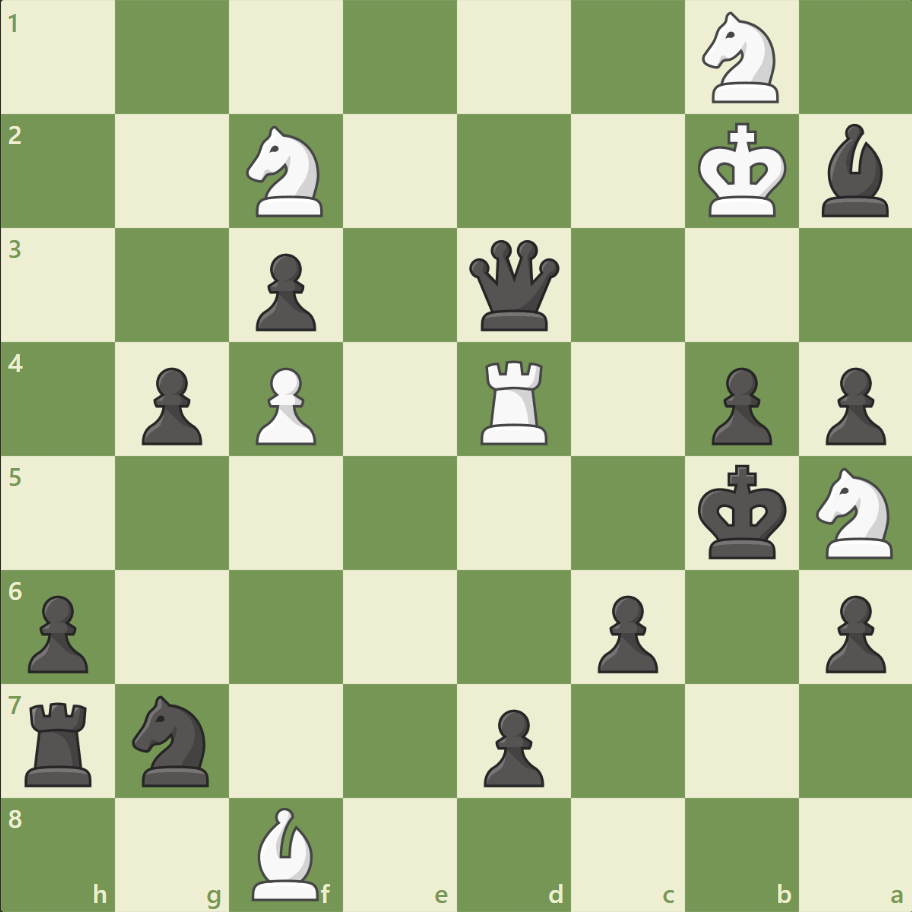B: (244, 801, 328, 904)
K: (692, 117, 792, 225)
N: (806, 461, 903, 564), (692, 7, 789, 110), (238, 121, 335, 223)
P: (247, 359, 322, 450)
R: (473, 352, 556, 449)
b: (812, 120, 896, 222)
k: (692, 458, 792, 566)
n: (124, 688, 222, 791)
p: (474, 700, 549, 791), (20, 586, 95, 677), (701, 359, 776, 450), (133, 359, 208, 450), (247, 246, 322, 337), (815, 586, 889, 677), (588, 586, 662, 677), (815, 359, 889, 450)
q: (464, 236, 563, 335)
r: (19, 693, 102, 790)
